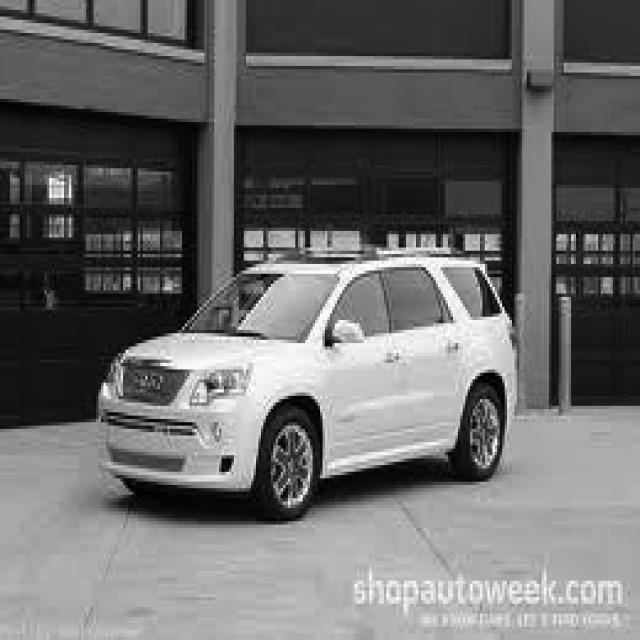car: (96, 244, 517, 521)
